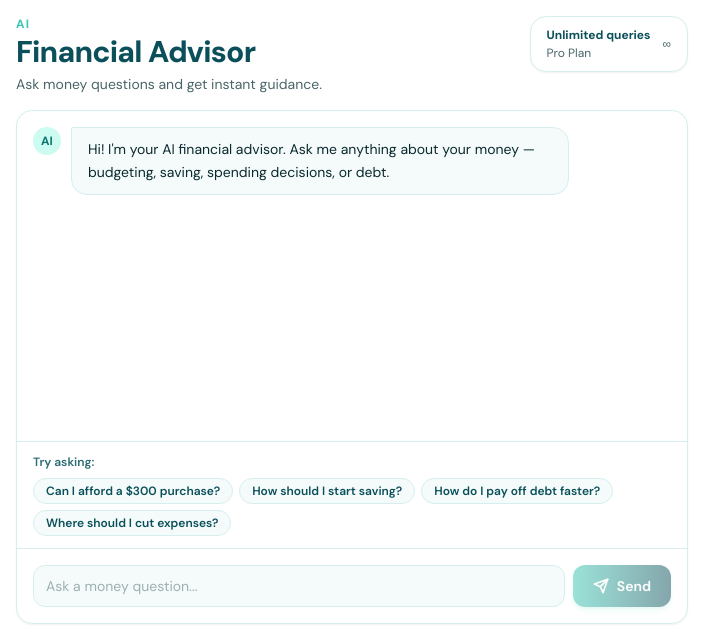
Scenario: AdvisorPage — chat flow › renders a friendly upgrade prompt on 429 over-limit
Step 1. Type "hi" into the field with placeholder "Ask a money question..." → (299, 586), box [33,565,565,607]
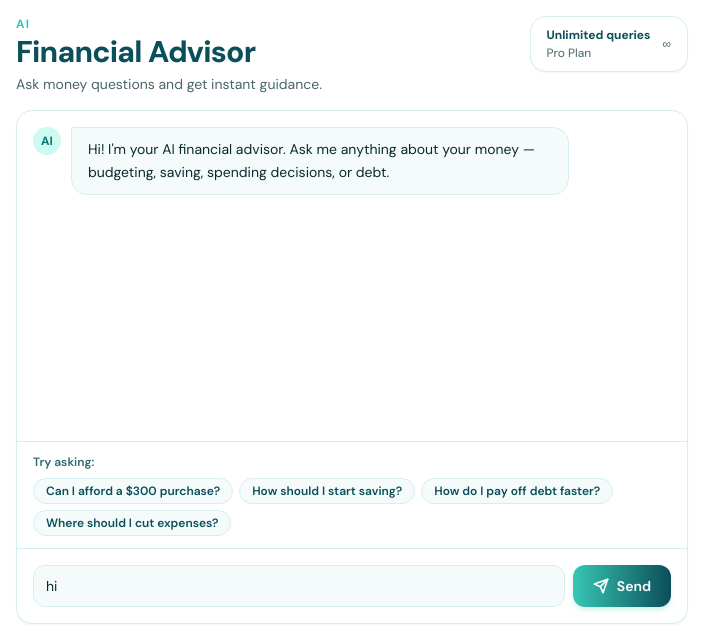
Step 2. Submit the form, box [33,565,671,607]
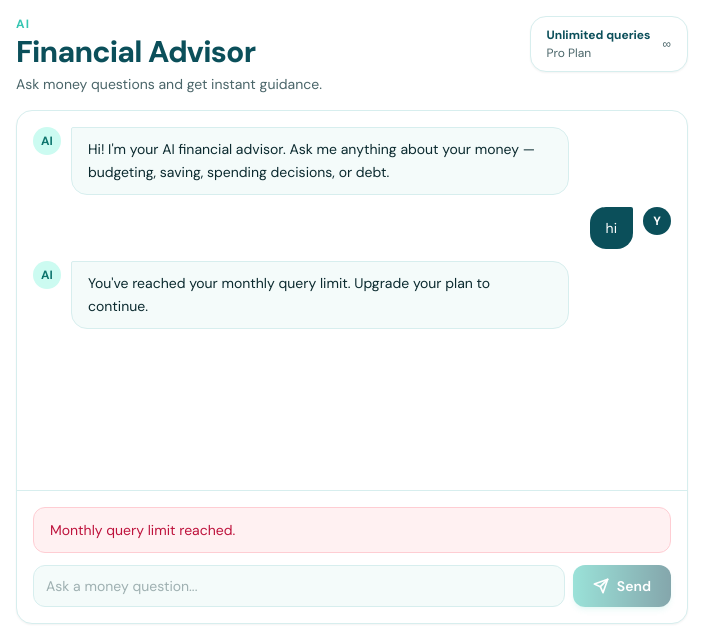
Expected: the text "Upgrade your plan" is shown, [88,274,490,315]
